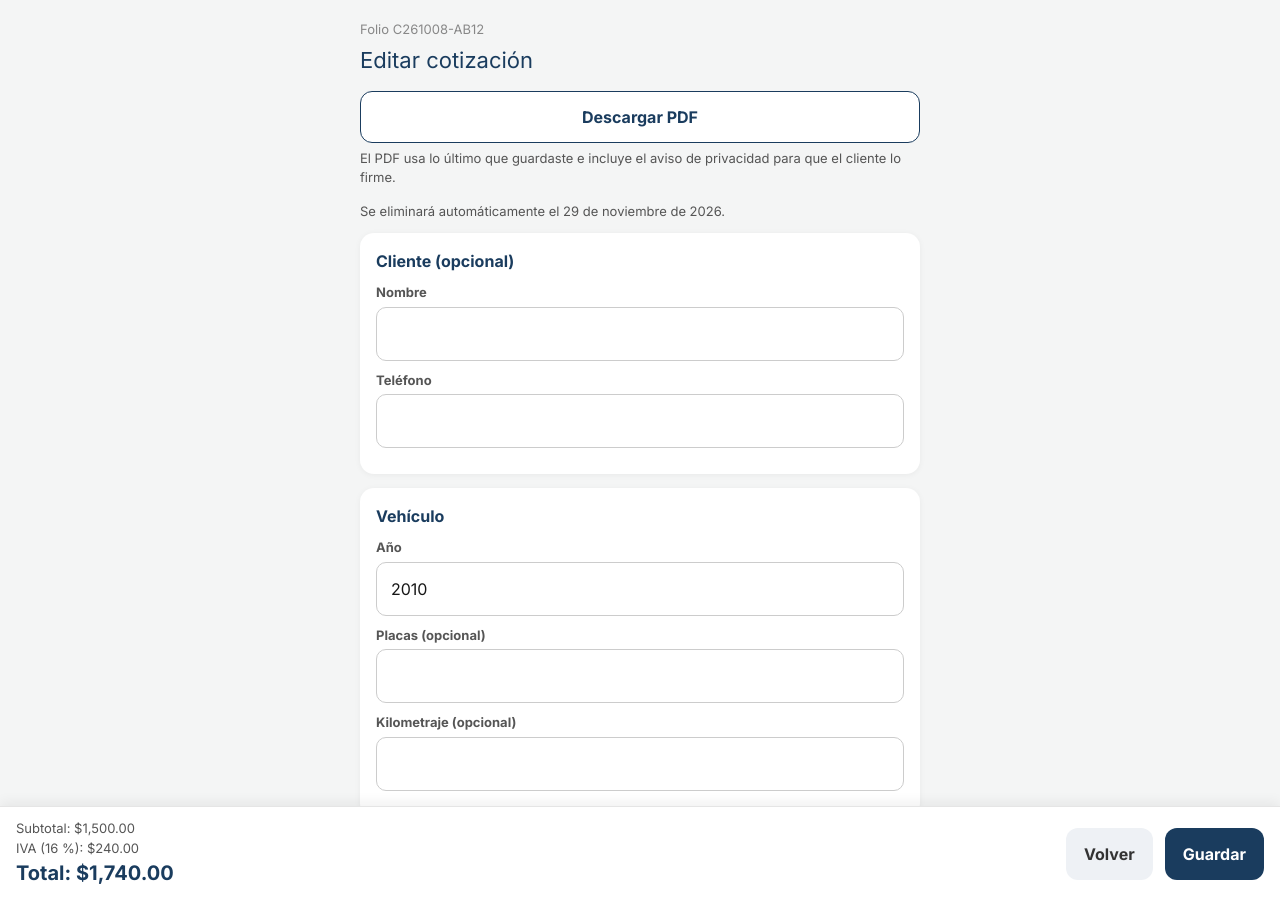
Test: PDF de la cotización según la versión de su aviso › con datos del cliente y sin aviso: explica por qué no se generó
expect the text "Folio C261008-AB12" is shown: met, box x1=360 y1=21 x2=484 y2=37
Click the button "Descargar PDF" at (640, 116), box x1=360 y1=90 x2=920 y2=142
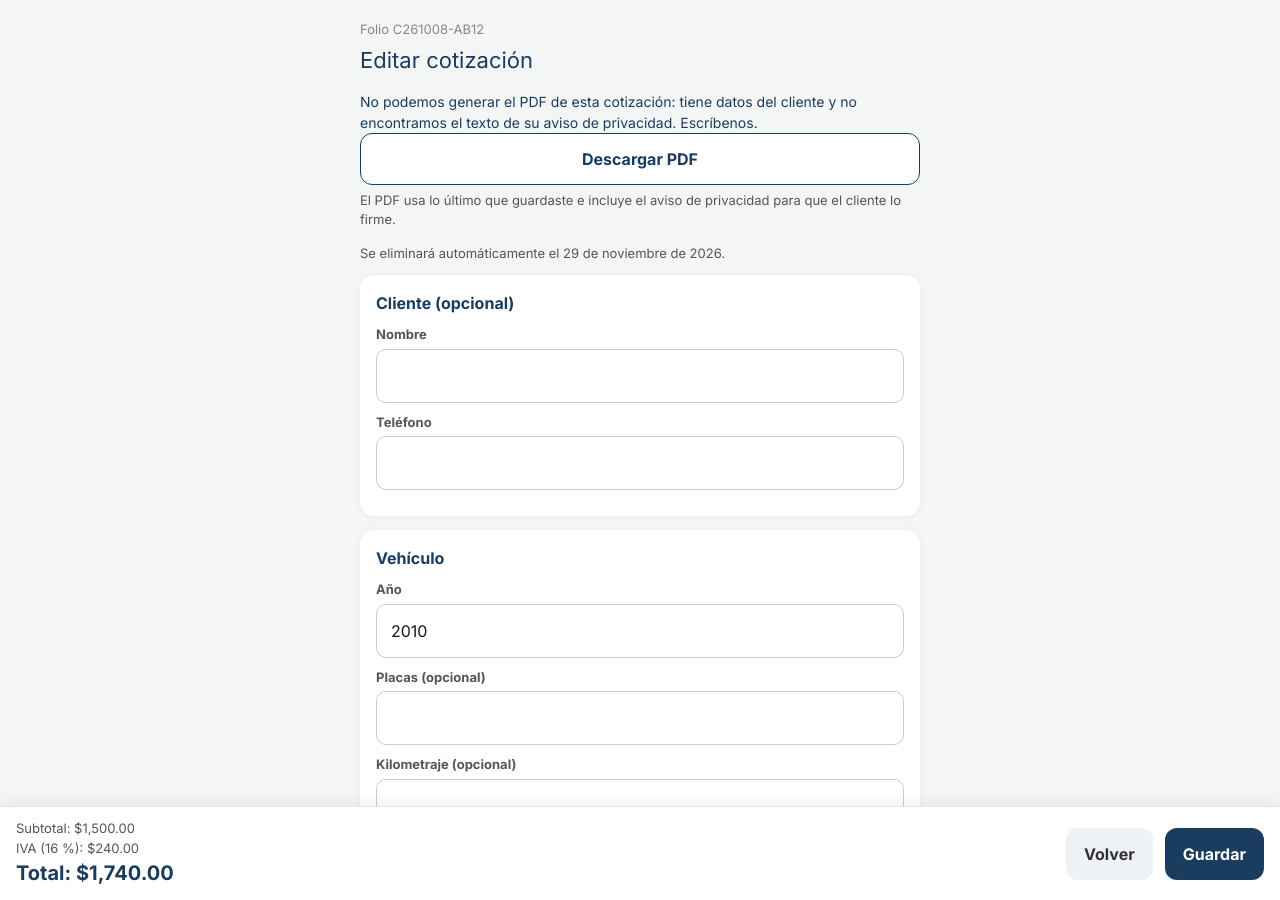
expect the text "No podemos generar el PDF de esta cotización: tiene datos del cliente y no encontramos el texto de su aviso de privacida" is shown: met, box x1=360 y1=92 x2=857 y2=130
